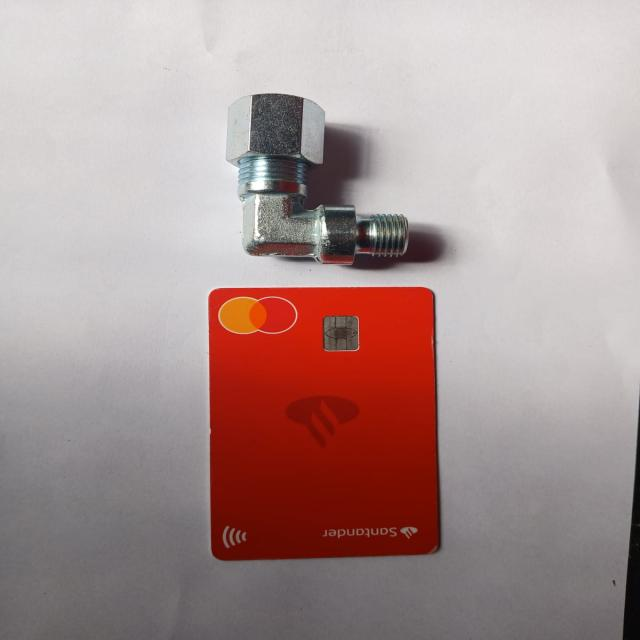cartao: (208, 286, 438, 560)
rosca_externa: (224, 92, 410, 267)
